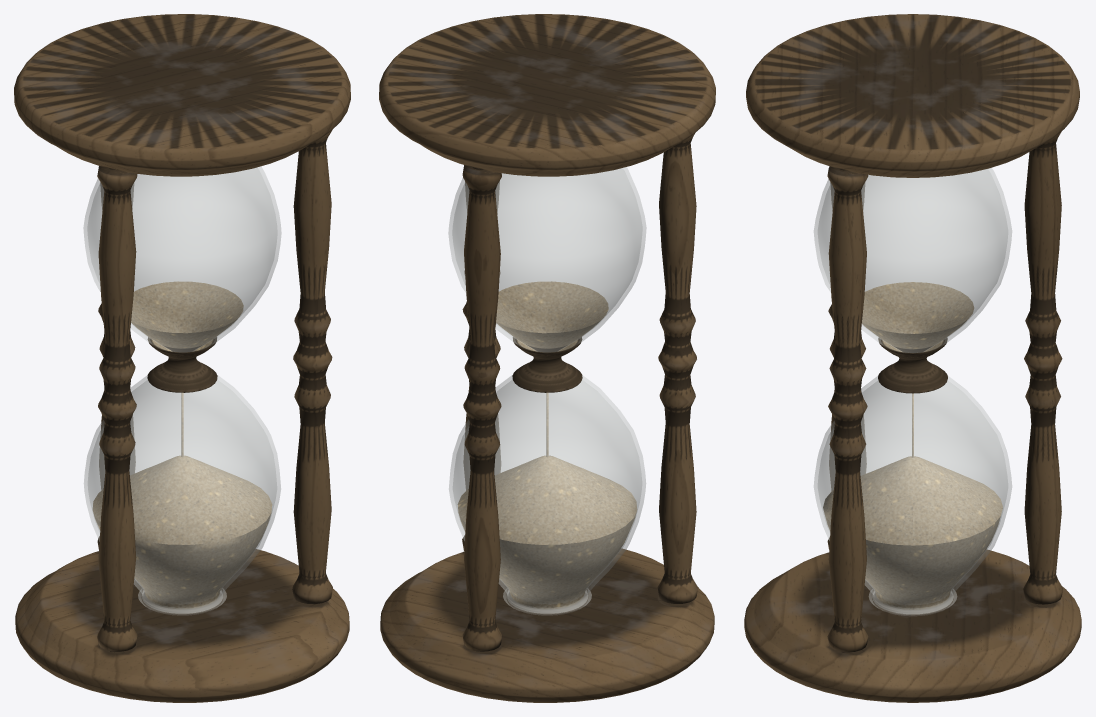
Rendered from SM_Hourglass.glb.
The picture shows the model from 3 angles, left to right: view 1: azimuth 30°, elevation 25°; view 2: azimuth 150°, elevation 25°; view 3: azimuth 270°, elevation 25°; orthographic projection.
Parts seen in each view (by area): view 1: SM_Hourglass, SM_Hourglass_Glass; view 2: SM_Hourglass, SM_Hourglass_Glass; view 3: SM_Hourglass, SM_Hourglass_Glass.
Boxes of the visible parts, x1=… form: SM_Hourglass: x1=14, y1=14, x2=350, y2=702; SM_Hourglass_Glass: x1=83, y1=166, x2=281, y2=615; SM_Hourglass: x1=379, y1=14, x2=715, y2=702; SM_Hourglass_Glass: x1=448, y1=167, x2=646, y2=615; SM_Hourglass: x1=744, y1=14, x2=1081, y2=702; SM_Hourglass_Glass: x1=814, y1=168, x2=1011, y2=615.
Bounding box in the file's own units: 0.1052 × 0.19 × 0.105.
2 materials, 1 textured.
